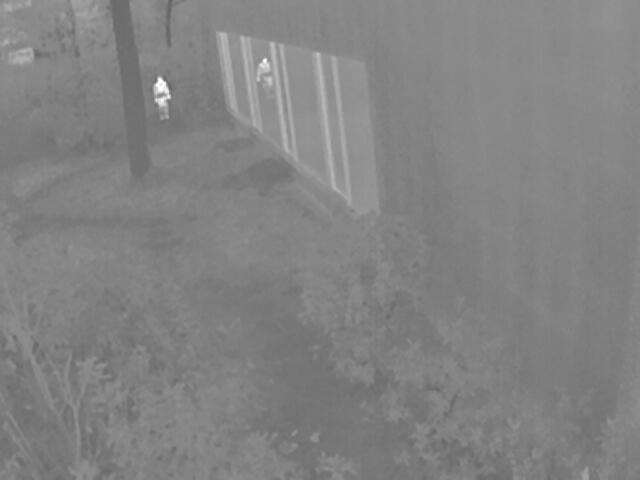person: (150, 75, 170, 118), (255, 57, 272, 90)
